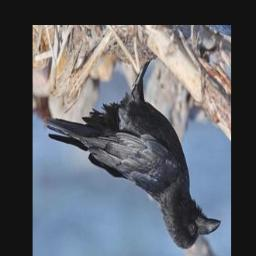Crow: (43, 52, 222, 250)
